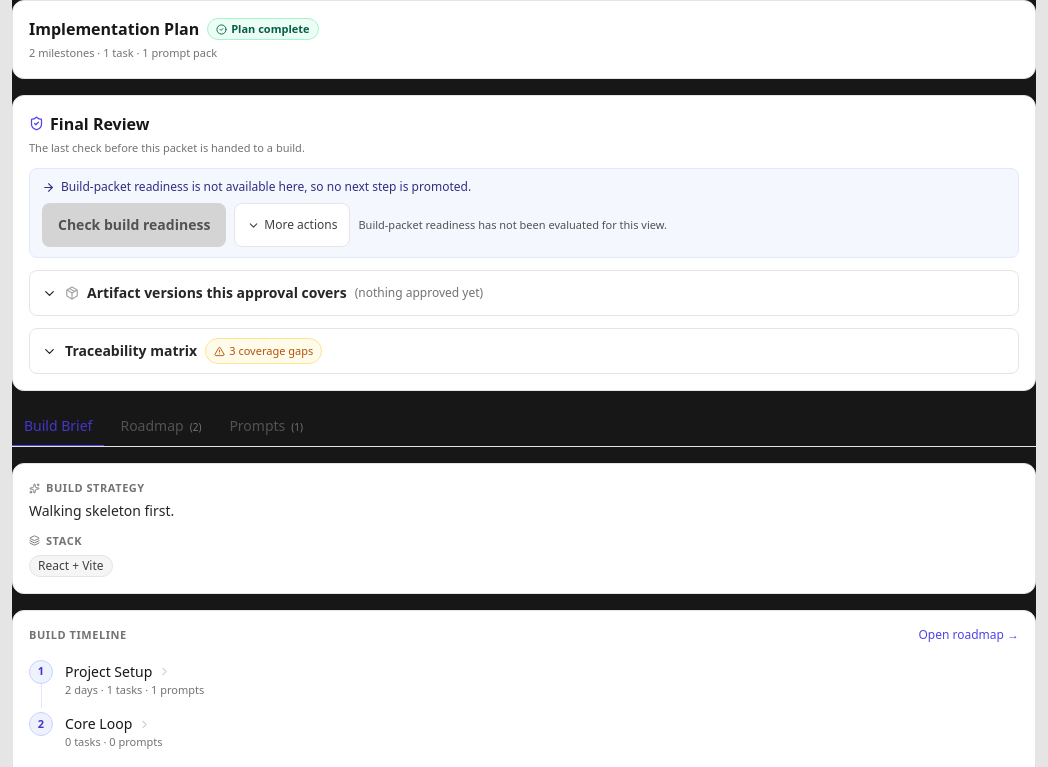
Test: ImplementationPlanRenderer — self-reported task progress on milestone rows › names a converted task marked implemented, and says the milestone count is self-reported
The width and height of the screenshot is (1048, 767).
Click the button "Roadmap(2)" at (161, 427), box [108,407,213,447]
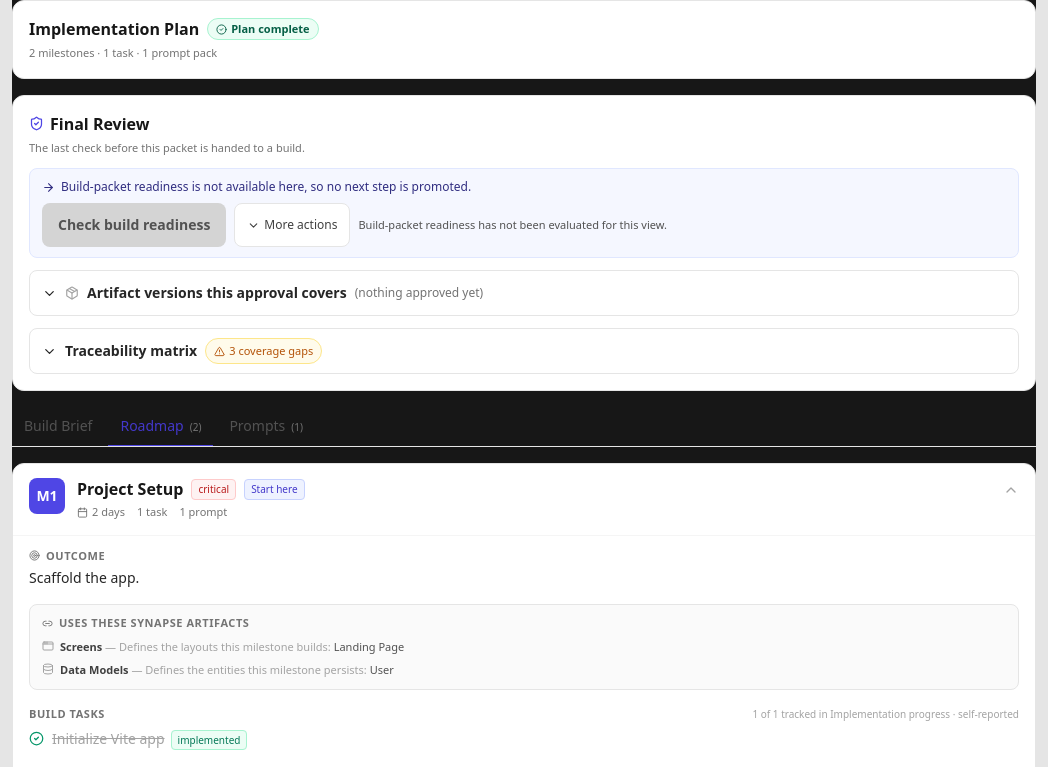
Expected: the text "1 of 1 tracked in Implementation progress · self-reported" is shown, [752,707,1019,722]
Expected: the text titled "Implemented (self-reported)" is shown, [178,733,240,747]
